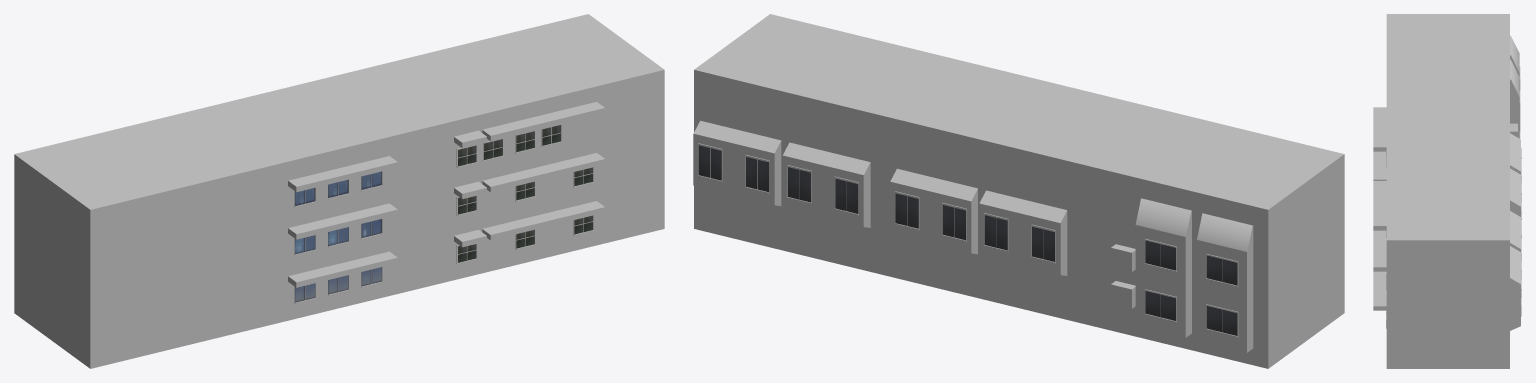
Rendered from bldg_mall_10_b02.fbx.
The picture shows the model from 3 angles, left to right: view 1: azimuth 30°, elevation 25°; view 2: azimuth 150°, elevation 25°; view 3: azimuth 270°, elevation 25°; orthographic projection. The views are drawn at different scales.
Parts seen in each view (by area): view 1: bldg_mall_10_b02; view 2: bldg_mall_10_b02; view 3: bldg_mall_10_b02.
Part boxes in pixels (<box>): bldg_mall_10_b02: <box>14,14,664,368</box>; bldg_mall_10_b02: <box>693,14,1344,368</box>; bldg_mall_10_b02: <box>1373,14,1521,368</box>.
Size of the model in its own units: 36.4 by 9.64 by 10.08.
